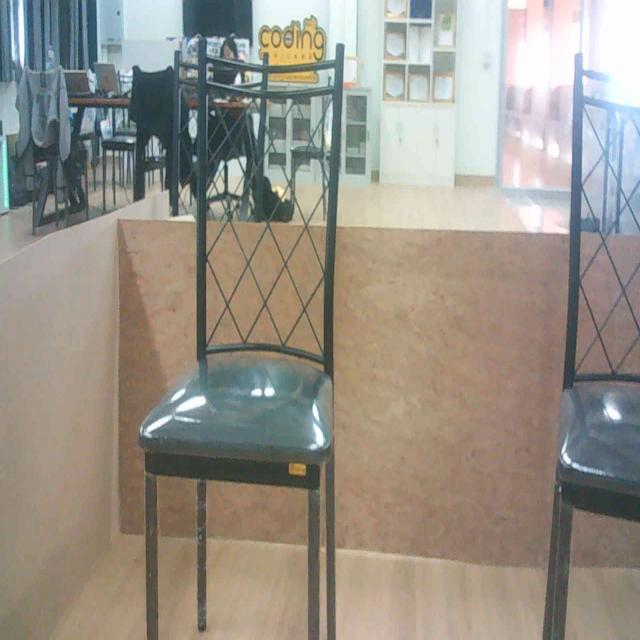emtpy: (140, 16, 356, 640), (538, 4, 640, 640)
